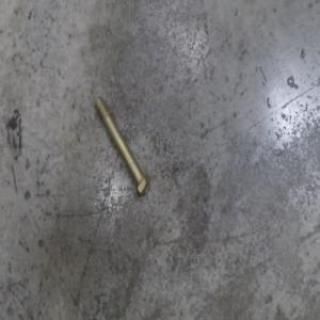Bolttrack_idkeyframe: (93, 94, 150, 200)
